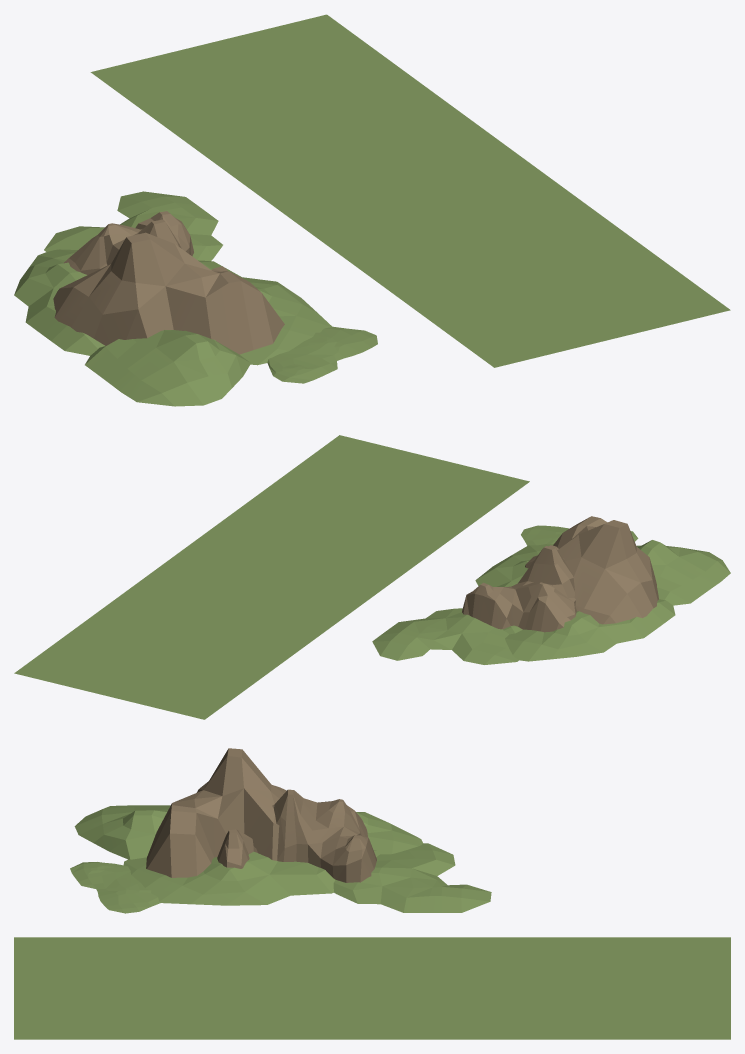
The model's file is landscape_simpTrains.fbx.
3 views of the same model, one above another, from view 1: azimuth 30°, elevation 25°; view 2: azimuth 150°, elevation 25°; view 3: azimuth 270°, elevation 25° (orthographic). The views are drawn at different scales.
Visible parts, largest first — view 1: SM_Env_Tile_Grass_02, SM_Env_Hills_02, SM_Env_Hills_09, SM_Env_Hills_10, SM_Env_Hills_08, SM_Env_Hills_04, SM_Env_Hills_11, SM_Env_Hills_03; view 2: SM_Env_Tile_Grass_02, SM_Env_Hills_02, SM_Env_Hills_03, SM_Env_Hills_08, SM_Env_Hills_10, SM_Env_Hills_09, SM_Env_Hills_11, SM_Env_Hills_04; view 3: SM_Env_Tile_Grass_02, SM_Env_Hills_02, SM_Env_Hills_03, SM_Env_Hills_11, SM_Env_Hills_08, SM_Env_Hills_09, SM_Env_Hills_04, SM_Env_Hills_10.
Part boxes in pixels (x1=…): SM_Env_Tile_Grass_02: x1=90, y1=14, x2=730, y2=367; SM_Env_Hills_02: x1=53, y1=232, x2=284, y2=354; SM_Env_Hills_09: x1=85, y1=330, x2=250, y2=406; SM_Env_Hills_10: x1=14, y1=249, x2=104, y2=355; SM_Env_Hills_08: x1=44, y1=191, x2=222, y2=260; SM_Env_Hills_04: x1=267, y1=326, x2=377, y2=383; SM_Env_Hills_11: x1=198, y1=260, x2=332, y2=365; SM_Env_Hills_03: x1=63, y1=211, x2=227, y2=274; SM_Env_Tile_Grass_02: x1=14, y1=435, x2=529, y2=719; SM_Env_Hills_02: x1=553, y1=516, x2=658, y2=624; SM_Env_Hills_03: x1=462, y1=545, x2=576, y2=632; SM_Env_Hills_08: x1=372, y1=608, x2=518, y2=664; SM_Env_Hills_10: x1=505, y1=599, x2=675, y2=661; SM_Env_Hills_09: x1=636, y1=540, x2=730, y2=605; SM_Env_Hills_11: x1=475, y1=544, x2=553, y2=634; SM_Env_Hills_04: x1=521, y1=525, x2=638, y2=545; SM_Env_Tile_Grass_02: x1=14, y1=937, x2=730, y2=1039; SM_Env_Hills_02: x1=146, y1=748, x2=286, y2=877; SM_Env_Hills_03: x1=217, y1=789, x2=376, y2=882; SM_Env_Hills_11: x1=123, y1=850, x2=379, y2=905; SM_Env_Hills_08: x1=333, y1=843, x2=491, y2=912; SM_Env_Hills_09: x1=74, y1=805, x2=170, y2=859; SM_Env_Hills_04: x1=70, y1=862, x2=160, y2=913; SM_Env_Hills_10: x1=356, y1=812, x2=422, y2=854.
Size of the model in its own units: 27480 by 4616 by 35500.
